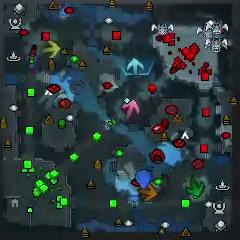p1: (136, 171, 152, 188)
x1: (122, 98, 139, 119)
x2: (43, 40, 60, 59)
x3: (126, 58, 144, 76)
x4: (188, 179, 205, 197)
x5: (139, 184, 157, 201)
